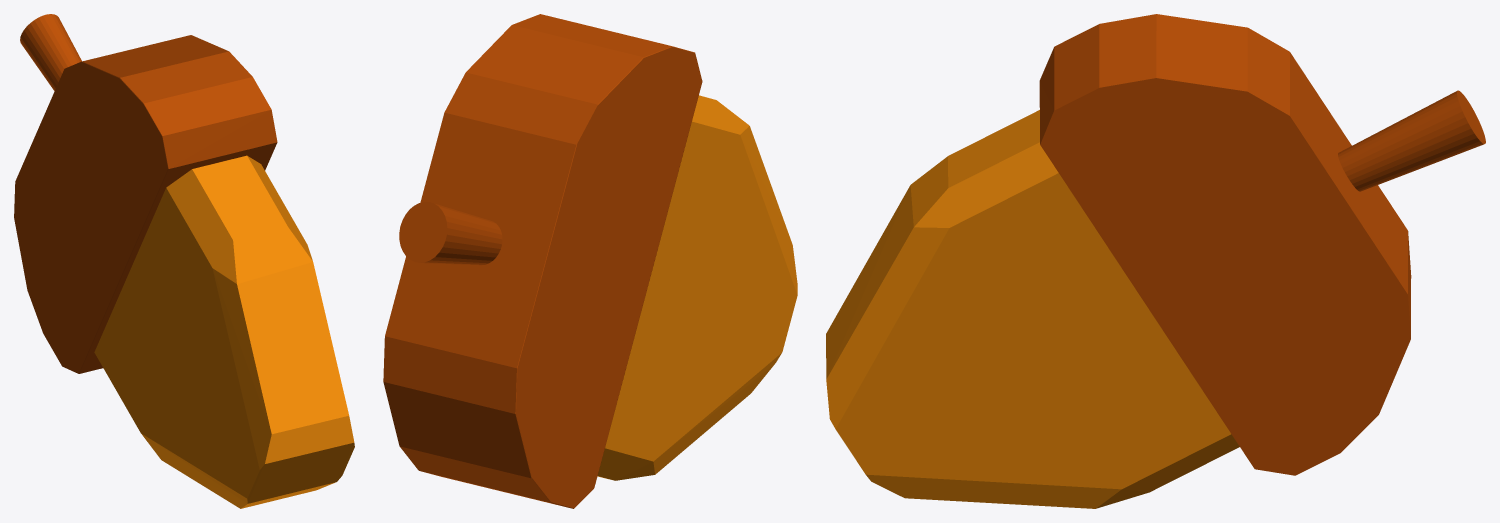
The model's file is Floor3_Ending Acorn.fbx.
3 views of the same model, side by side, from view 1: azimuth 30°, elevation 25°; view 2: azimuth 150°, elevation 25°; view 3: azimuth 270°, elevation 25° (orthographic). The views are drawn at different scales.
Parts seen in each view (by area): view 1: acorn1 Mesh (1), acorn2 Mesh (1); view 2: acorn2 Mesh (1), acorn1 Mesh (1); view 3: acorn2 Mesh (1), acorn1 Mesh (1).
Boxes of the visible parts, bbox=[...] form: acorn1 Mesh (1): bbox=[94, 155, 354, 508]; acorn2 Mesh (1): bbox=[14, 14, 277, 373]; acorn2 Mesh (1): bbox=[383, 14, 702, 508]; acorn1 Mesh (1): bbox=[597, 95, 797, 480]; acorn2 Mesh (1): bbox=[1039, 14, 1485, 475]; acorn1 Mesh (1): bbox=[826, 110, 1239, 508].
Size of the model in its own units: 1.7 by 5.46 by 7.4.
